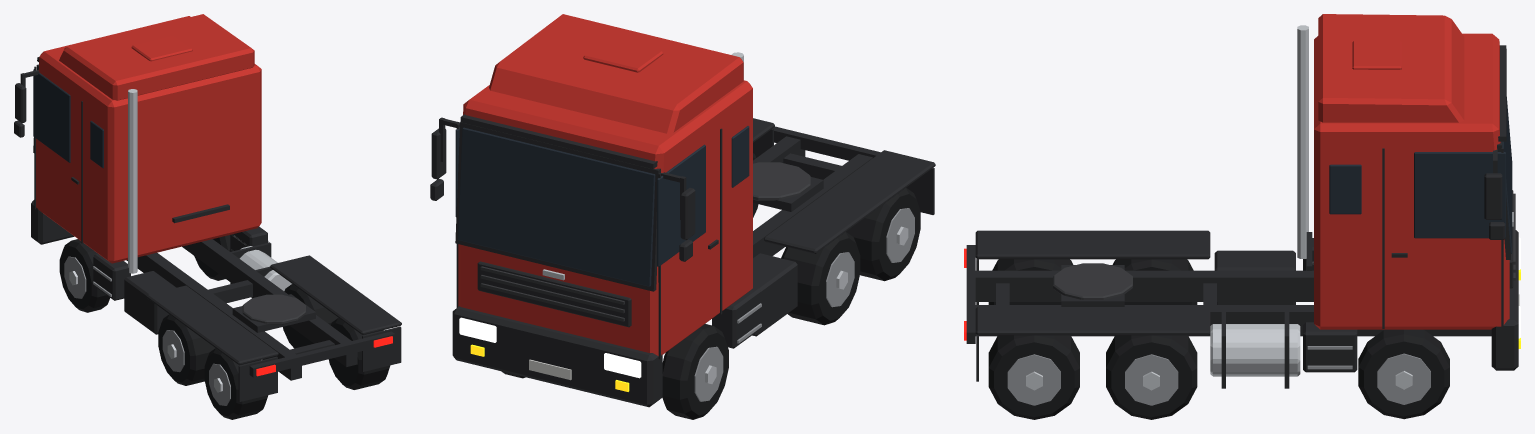
The model's file is truck_cab_red.glb.
The picture shows the model from 3 angles, left to right: view 1: azimuth 30°, elevation 25°; view 2: azimuth 150°, elevation 25°; view 3: azimuth 270°, elevation 25°; orthographic projection. The views are drawn at different scales.
Visible parts, largest first — view 1: Body, Wheel_RL1, Wheel_RL2, Wheel_FL, Wheel_RR2, Wheel_RR1, Wheel_FR; view 2: Body, Wheel_FL, Wheel_RL1, Wheel_RL2; view 3: Body, Wheel_FR, Wheel_RR2, Wheel_RR1, Wheel_RL1, Wheel_RL2.
Part boxes in pixels (<box>): Body: <box>14,14,401,401</box>; Wheel_RL1: <box>158,314,215,385</box>; Wheel_RL2: <box>204,348,268,419</box>; Wheel_FL: <box>59,239,109,312</box>; Wheel_RR2: <box>328,318,390,389</box>; Wheel_RR1: <box>283,284,338,348</box>; Wheel_FR: <box>194,235,230,280</box>; Body: <box>430,14,935,407</box>; Wheel_FL: <box>662,324,728,419</box>; Wheel_RL1: <box>781,232,860,325</box>; Wheel_RL2: <box>846,188,920,281</box>; Body: <box>964,14,1520,388</box>; Wheel_FR: <box>1358,329,1449,419</box>; Wheel_RR2: <box>988,335,1079,419</box>; Wheel_RR1: <box>1106,335,1197,419</box>; Wheel_RL1: <box>1112,259,1197,304</box>; Wheel_RL2: <box>988,259,1073,304</box>.
Bounding box in the file's own units: 3.19 × 3.93 × 6.17.
